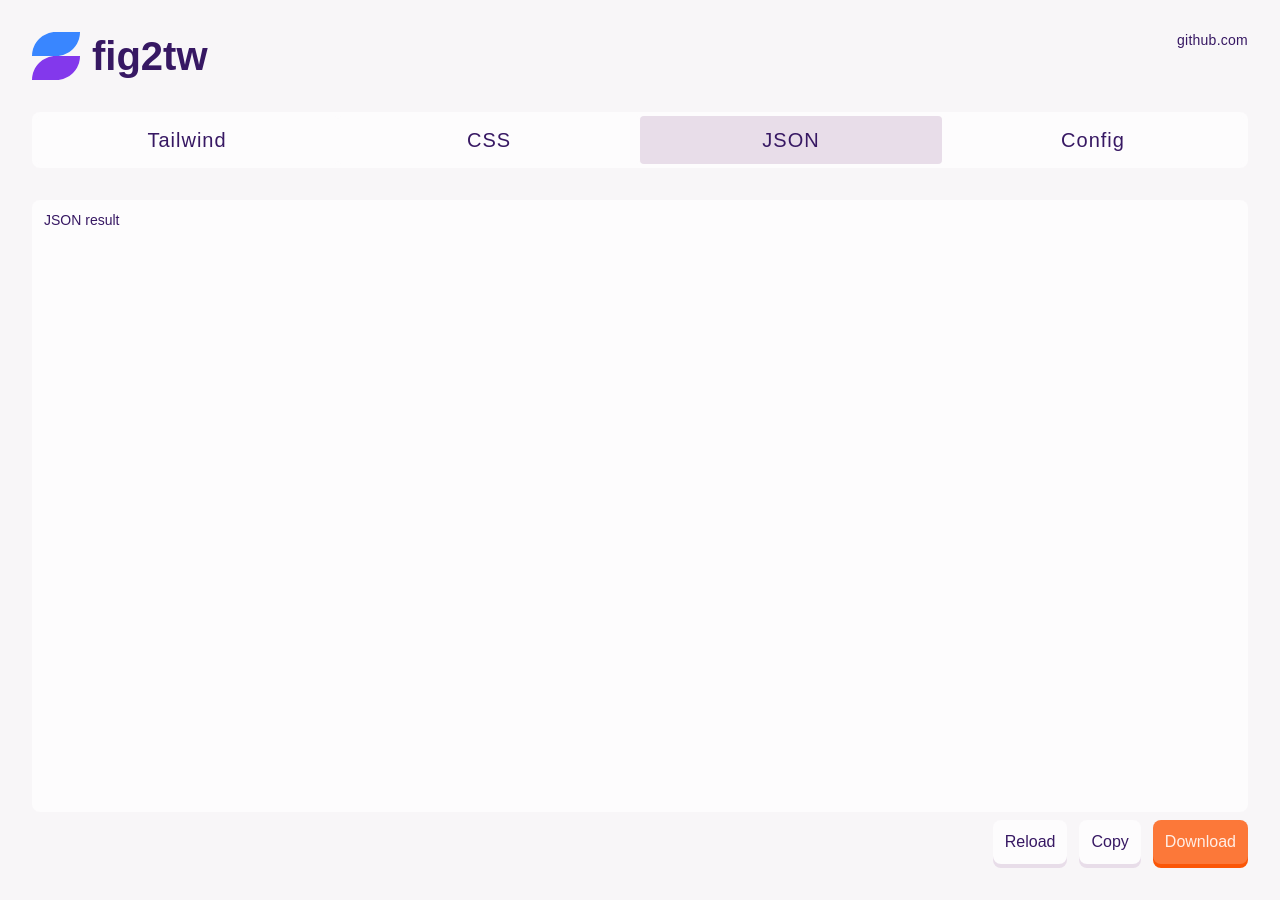
it: App › should navigate to CSS tab
The width and height of the screenshot is (1280, 900).
Click the tab "CSS" at (489,140), box top-left (338, 116), bottom-right (640, 164)
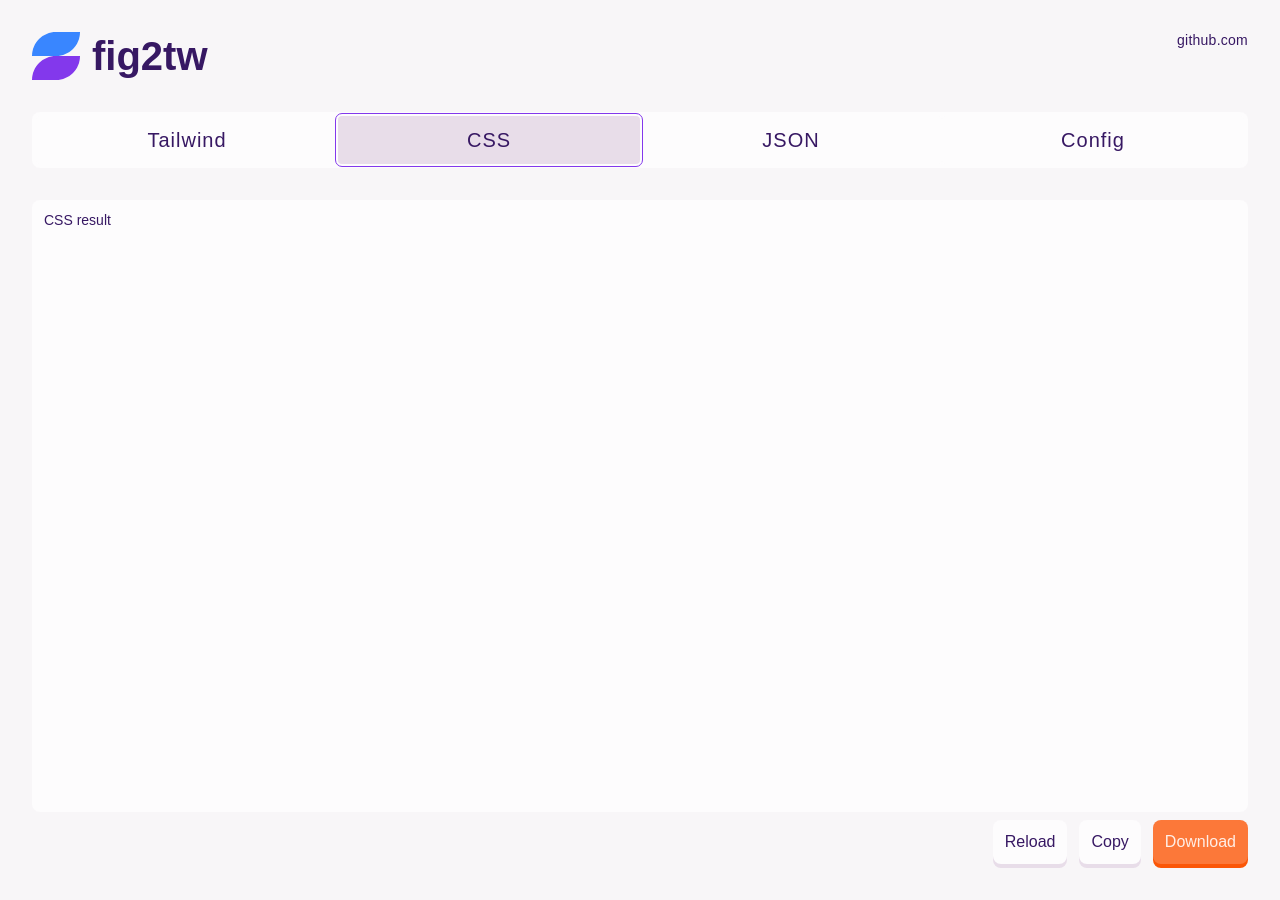
Result: the text "CSS result" is shown at top-left (44, 212), bottom-right (111, 228)
